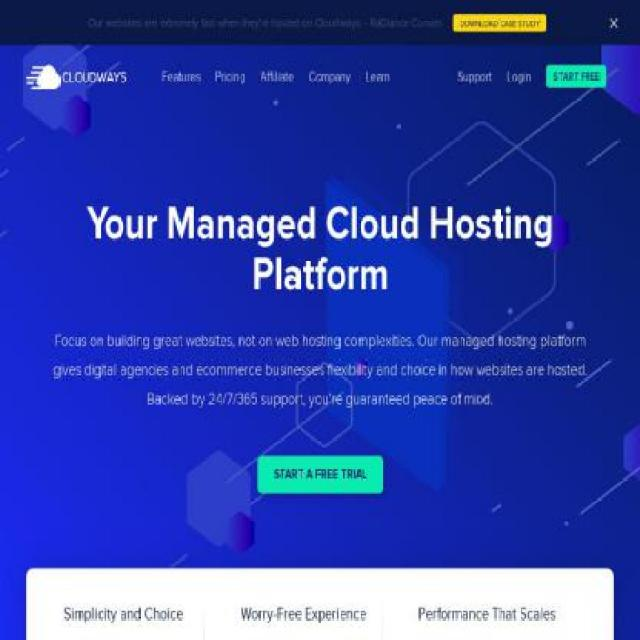button: (88, 12, 546, 31), (257, 455, 383, 494), (26, 60, 126, 92), (309, 68, 351, 108), (162, 68, 200, 108), (546, 64, 606, 88), (457, 68, 492, 108), (260, 68, 294, 108), (214, 68, 246, 108), (365, 68, 390, 108), (507, 68, 531, 108)
